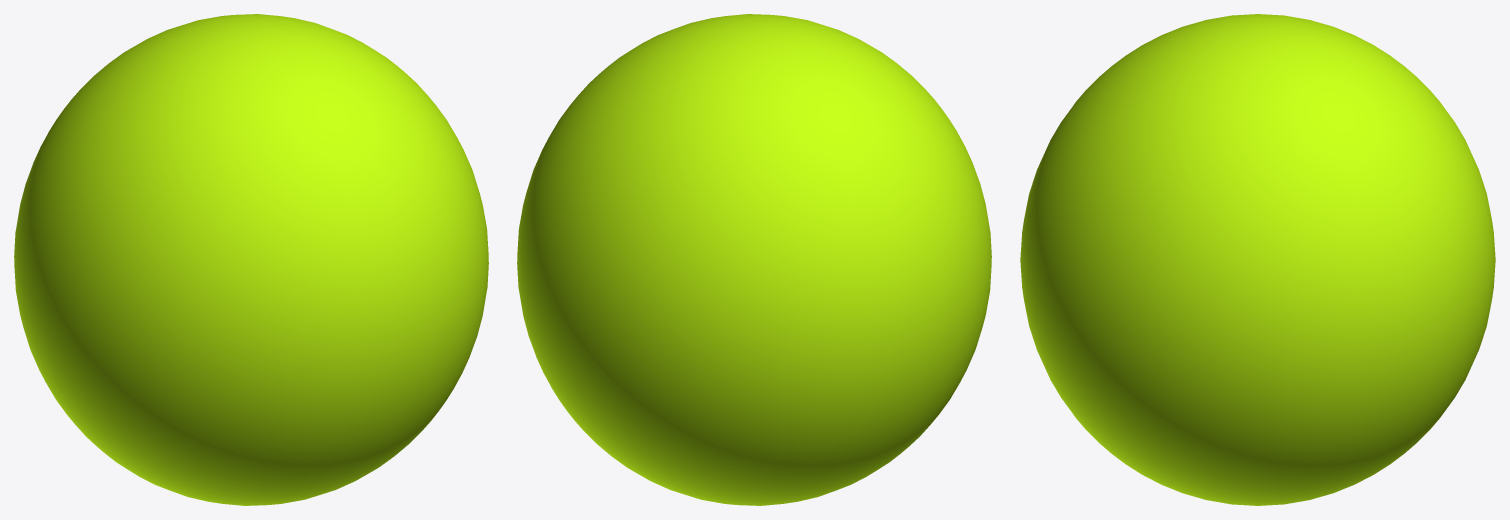
The picture shows the model from 3 angles, left to right: view 1: azimuth 30°, elevation 25°; view 2: azimuth 150°, elevation 25°; view 3: azimuth 270°, elevation 25°; orthographic projection.
Visible parts, largest first — view 1: root; view 2: root; view 3: root.
Boxes of the visible parts, x1,y1,x2,y2 form: root: (14,14,488,505); root: (517,14,991,505); root: (1020,14,1495,505).
Bounding box in the file's own units: 0.1264 × 0.1319 × 0.1264.
Materials: 1 (1 with a texture image).
